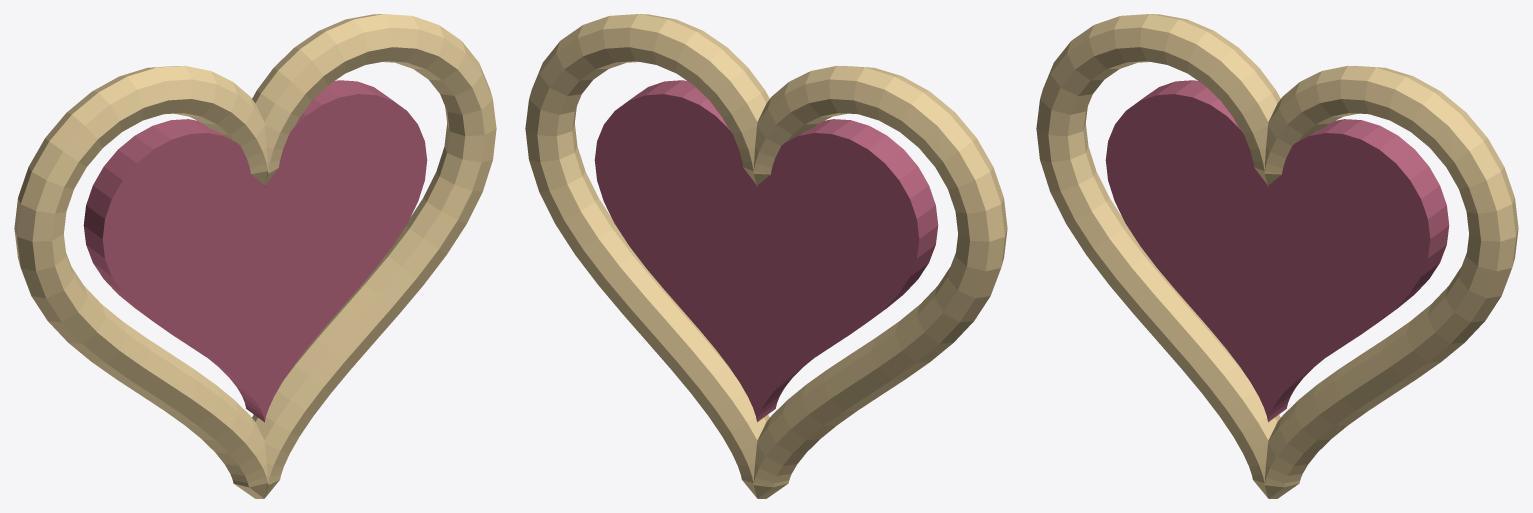
Rendered from ACC_Heart_RedGem.glb.
The picture shows the model from 3 angles, left to right: view 1: azimuth 30°, elevation 25°; view 2: azimuth 150°, elevation 25°; view 3: azimuth 330°, elevation 25°; orthographic projection.
Visible parts, largest first — view 1: ACC_Heart_RedGem_1, ACC_Heart_RedGem_2; view 2: ACC_Heart_RedGem_1, ACC_Heart_RedGem_2; view 3: ACC_Heart_RedGem_1, ACC_Heart_RedGem_2.
Part boxes in pixels (<box>): ACC_Heart_RedGem_1: <box>14,14,496,498</box>; ACC_Heart_RedGem_2: <box>83,80,427,422</box>; ACC_Heart_RedGem_1: <box>525,14,1007,498</box>; ACC_Heart_RedGem_2: <box>594,80,938,422</box>; ACC_Heart_RedGem_1: <box>1036,14,1518,498</box>; ACC_Heart_RedGem_2: <box>1105,80,1449,422</box>.
Size of the model in its own units: 0.0581 by 0.053 by 0.0054.
